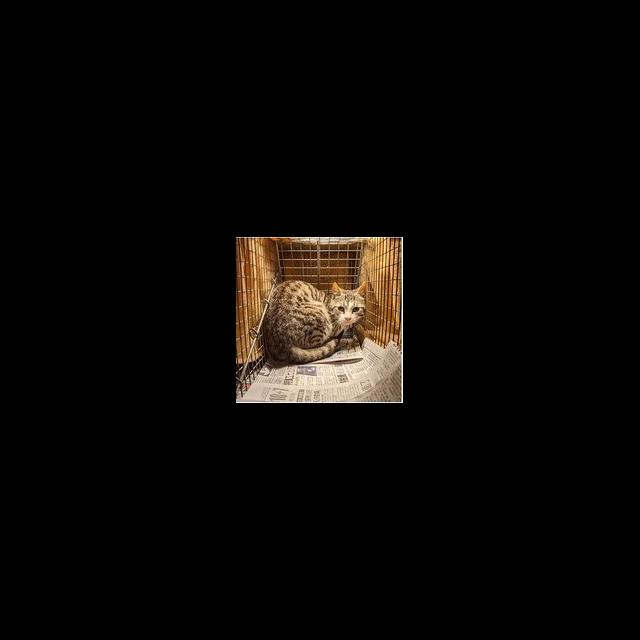animals: (260, 280, 368, 364)
